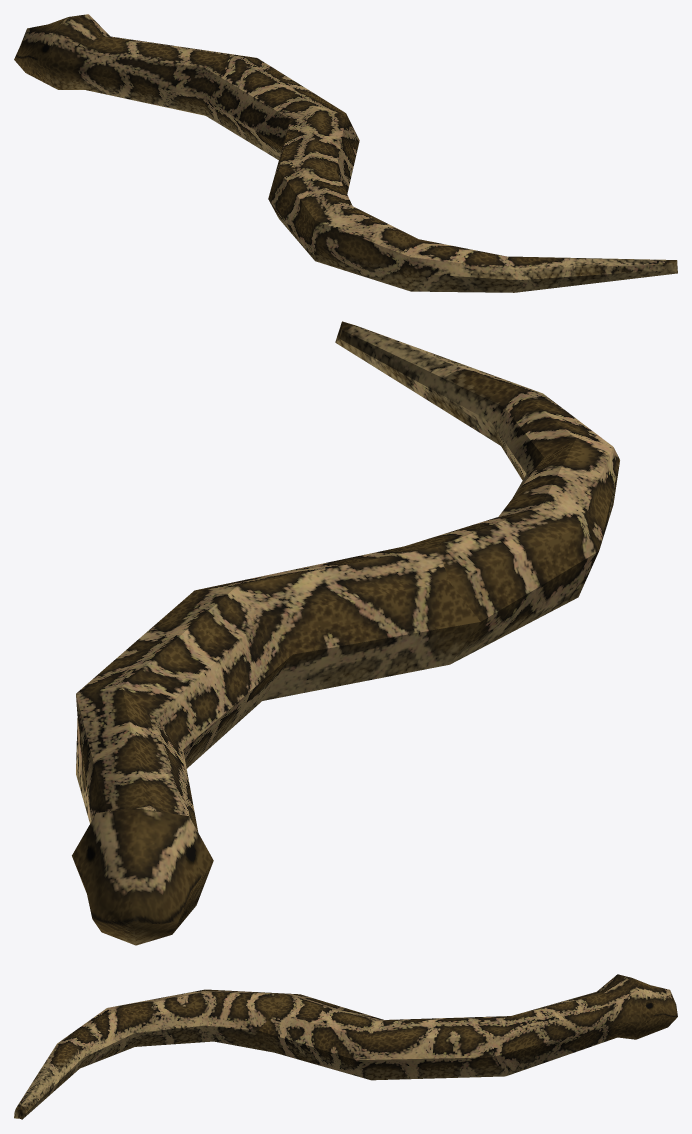
The model's file is pythonCOMPLETEDFBX.fbx.
3 views of the same model, one above another, from view 1: azimuth 30°, elevation 25°; view 2: azimuth 150°, elevation 25°; view 3: azimuth 270°, elevation 25° (orthographic). The views are drawn at different scales.
Parts seen in each view (by area): view 1: pCube1; view 2: pCube1; view 3: pCube1.
Boxes of the visible parts, x1,y1,x2,y2 form: pCube1: (14, 14, 677, 292); pCube1: (72, 321, 619, 945); pCube1: (14, 974, 677, 1119).
Size of the model in its own units: 3.89 by 0.9056 by 9.32.
1 material, 1 textured.
